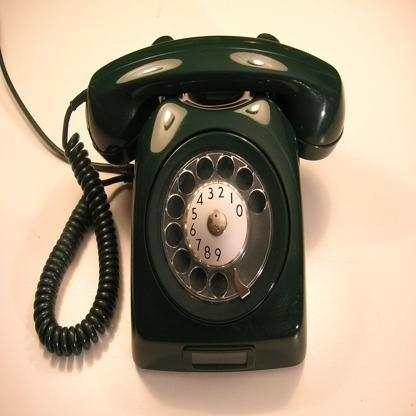not trash: (82, 32, 345, 371)
